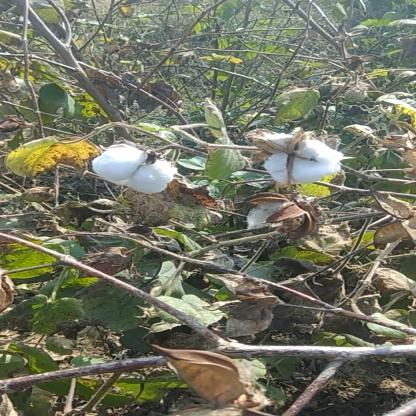cotton_ready: (242, 124, 353, 192), (84, 138, 193, 202)
